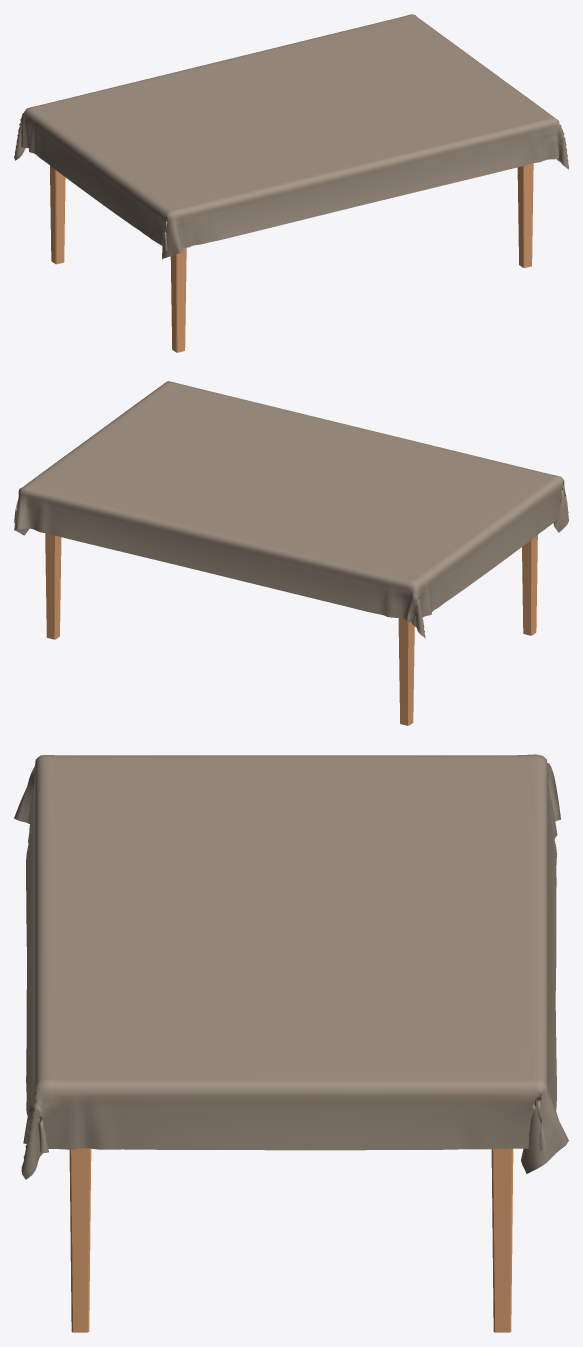
The model's file is TableCloth (1).fbx.
The picture shows the model from 3 angles, top to bottom: view 1: azimuth 30°, elevation 25°; view 2: azimuth 150°, elevation 25°; view 3: azimuth 270°, elevation 25°; orthographic projection. The views are drawn at different scales.
Visible parts, largest first — view 1: Cube.002, Cube.001; view 2: Cube.002, Cube.001; view 3: Cube.002, Cube.001.
Boxes of the visible parts, bbox=[...] form: Cube.002: bbox=[14, 14, 568, 259]; Cube.001: bbox=[50, 163, 533, 352]; Cube.002: bbox=[14, 381, 568, 638]; Cube.001: bbox=[45, 533, 537, 725]; Cube.002: bbox=[14, 754, 568, 1179]; Cube.001: bbox=[69, 1148, 513, 1332].
Size of the model in its own units: 330 by 117 by 224.
